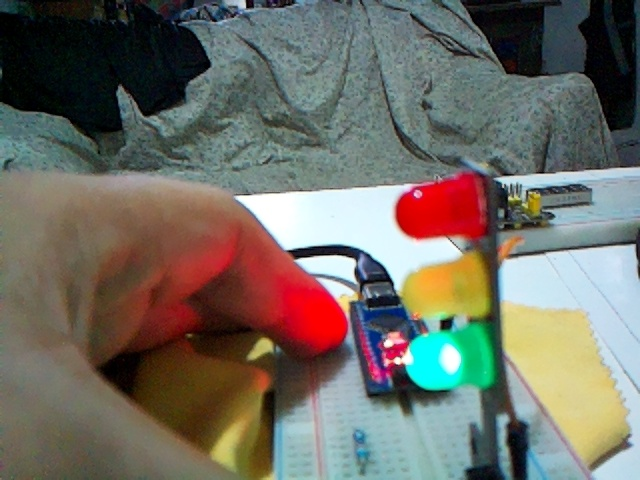traffic_light_green: (403, 322, 497, 390)
